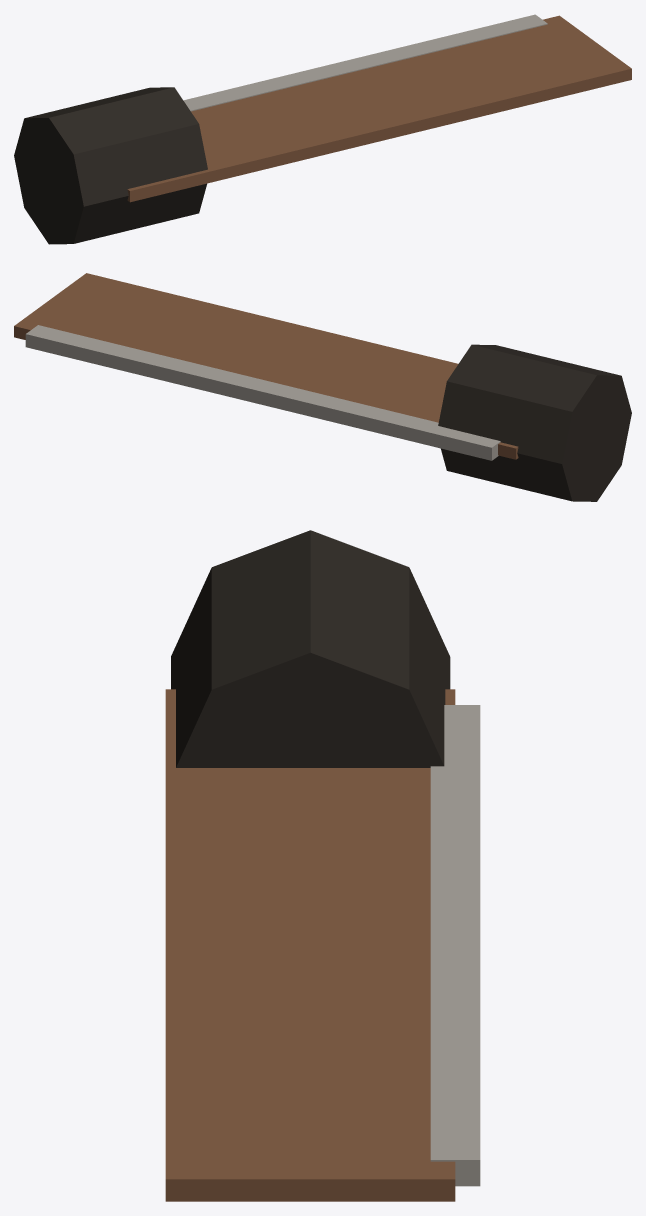
The model's file is long pole scrap blade.glb.
3 views of the same model, one above another, from view 1: azimuth 30°, elevation 25°; view 2: azimuth 150°, elevation 25°; view 3: azimuth 270°, elevation 25° (orthographic). The views are drawn at different scales.
Visible parts, largest first — view 1: scrap blade; view 2: scrap blade; view 3: scrap blade.
Boxes of the visible parts, x1,y1,x2,y2 form: scrap blade: (14, 14, 631, 244); scrap blade: (14, 273, 631, 501); scrap blade: (165, 530, 480, 1201).
Size of the model in its own units: 0.305 by 0.0675 by 0.076.
